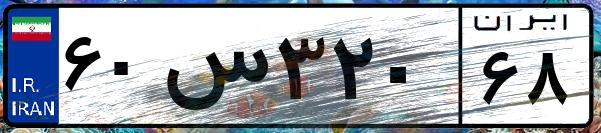0: (385, 28, 445, 110), (110, 28, 158, 98)
2: (330, 28, 385, 110)
3: (270, 28, 330, 110)
6: (57, 26, 110, 100), (475, 38, 525, 113)
8: (525, 38, 570, 115)
س: (158, 20, 270, 120)
